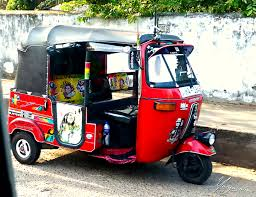tuk tuk: (9, 24, 221, 186)
